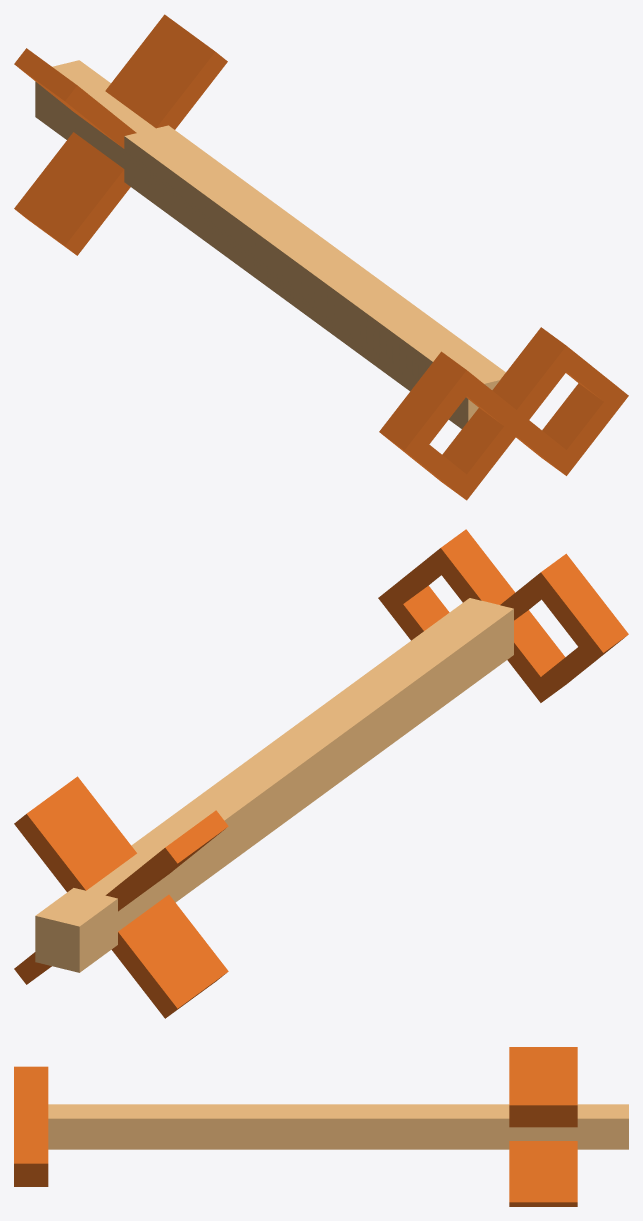
The model's file is InfinityArrowA.fbx.
3 renders of one model, top to bottom at view 1: azimuth 30°, elevation 25°; view 2: azimuth 150°, elevation 25°; view 3: azimuth 270°, elevation 25°, orthographic. The views are drawn at different scales.
Visible parts, largest first — view 1: Cube.001, Cube.006, Cube.004, Cube.015, Cube.009, Cube.008, Cube.014, Cube.005, Cube.013, Cube.002, Cube.012, Cube.007; view 2: Cube.001, Cube.006, Cube.004, Cube.015, Cube.009, Cube.005, Cube.014, Cube.013, Cube.008, Cube.002, Cube.012; view 3: Cube.001, Cube.003, Cube.005, Cube.004, Cube.002, Cube.012, Cube.008, Cube.009, Cube.015.
Boxes of the visible parts, x1=… form: Cube.001: x1=35, y1=60, x2=505, y2=428; Cube.006: x1=14, y1=132, x2=130, y2=255; Cube.004: x1=105, y1=14, x2=227, y2=129; Cube.015: x1=391, y1=351, x2=478, y2=444; Cube.009: x1=492, y1=327, x2=578, y2=419; Cube.008: x1=531, y1=383, x2=615, y2=475; Cube.014: x1=432, y1=408, x2=516, y2=500; Cube.005: x1=14, y1=48, x2=136, y2=148; Cube.013: x1=379, y1=416, x2=466, y2=490; Cube.002: x1=566, y1=356, x2=628, y2=411; Cube.012: x1=466, y1=380, x2=528, y2=435; Cube.007: x1=516, y1=420, x2=566, y2=465; Cube.001: x1=35, y1=598, x2=513, y2=972; Cube.006: x1=111, y1=894, x2=228, y2=1018; Cube.004: x1=14, y1=776, x2=136, y2=892; Cube.015: x1=528, y1=553, x2=615, y2=646; Cube.009: x1=428, y1=529, x2=515, y2=604; Cube.005: x1=105, y1=810, x2=228, y2=911; Cube.014: x1=507, y1=610, x2=575, y2=702; Cube.013: x1=541, y1=618, x2=628, y2=692; Cube.008: x1=390, y1=585, x2=449, y2=640; Cube.002: x1=378, y1=558, x2=441, y2=613; Cube.012: x1=500, y1=582, x2=541, y2=620; Cube.001: x1=48, y1=1104, x2=628, y2=1149; Cube.003: x1=509, y1=1141, x2=577, y2=1206; Cube.005: x1=509, y1=1047, x2=577, y2=1092; Cube.004: x1=509, y1=1092, x2=577, y2=1127; Cube.002: x1=14, y1=1112, x2=48, y2=1168; Cube.012: x1=14, y1=1079, x2=48, y2=1099; Cube.008: x1=14, y1=1168, x2=48, y2=1186; Cube.009: x1=14, y1=1099, x2=48, y2=1112; Cube.015: x1=14, y1=1066, x2=48, y2=1079.
Bounding box in the file's own units: 50.9 × 36.97 × 180.
